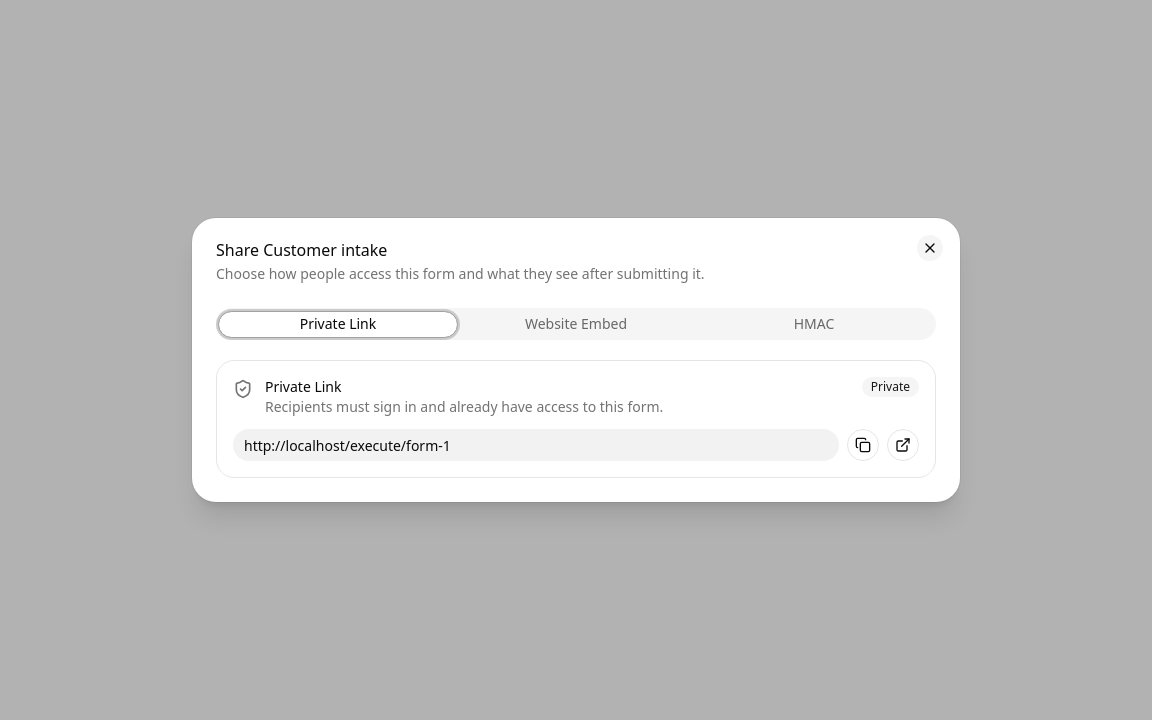
Test: FormShareDialog › hides stale embed code and explains that capability changes pause it
Expected: the field named "Private form link" is shown, [233,429,839,461]
Expected: the heading "Confirmation Message" is not shown
Click the tab "Website Embed" at coordinates (576, 324), box [457,312,695,336]
(page scrolled)
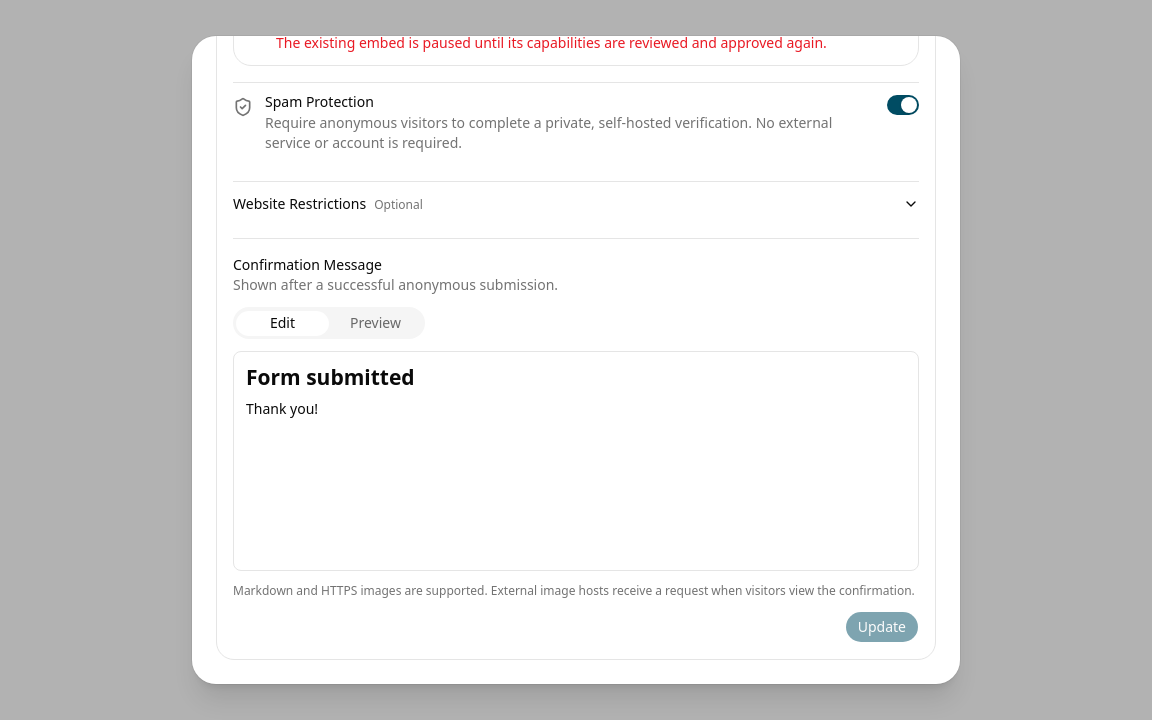
Expected: the text "existing embed is paused" is shown, [276,36,827,52]
Expected: the button "Update" is disabled, [845,611,919,643]
